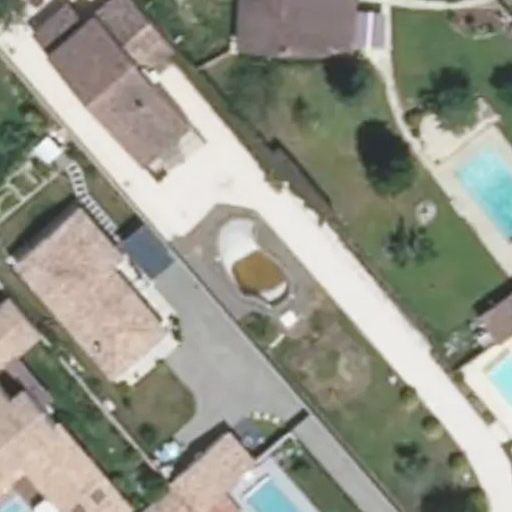pool: (213, 201, 293, 288)
